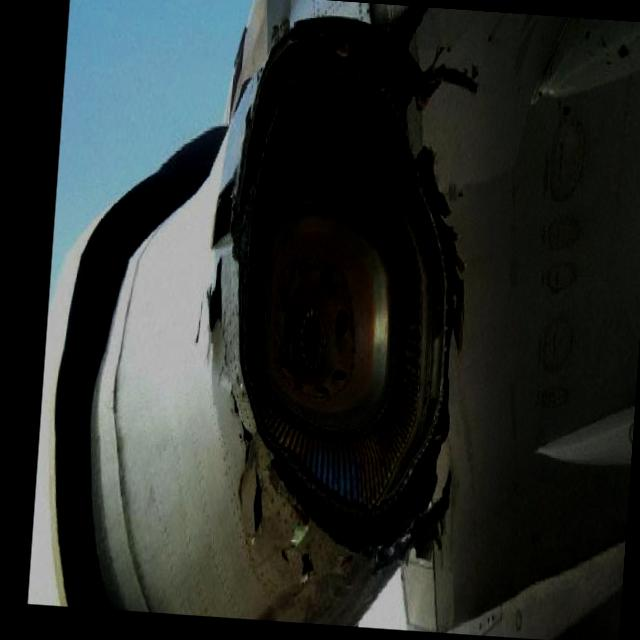crack: (176, 250, 336, 592)
